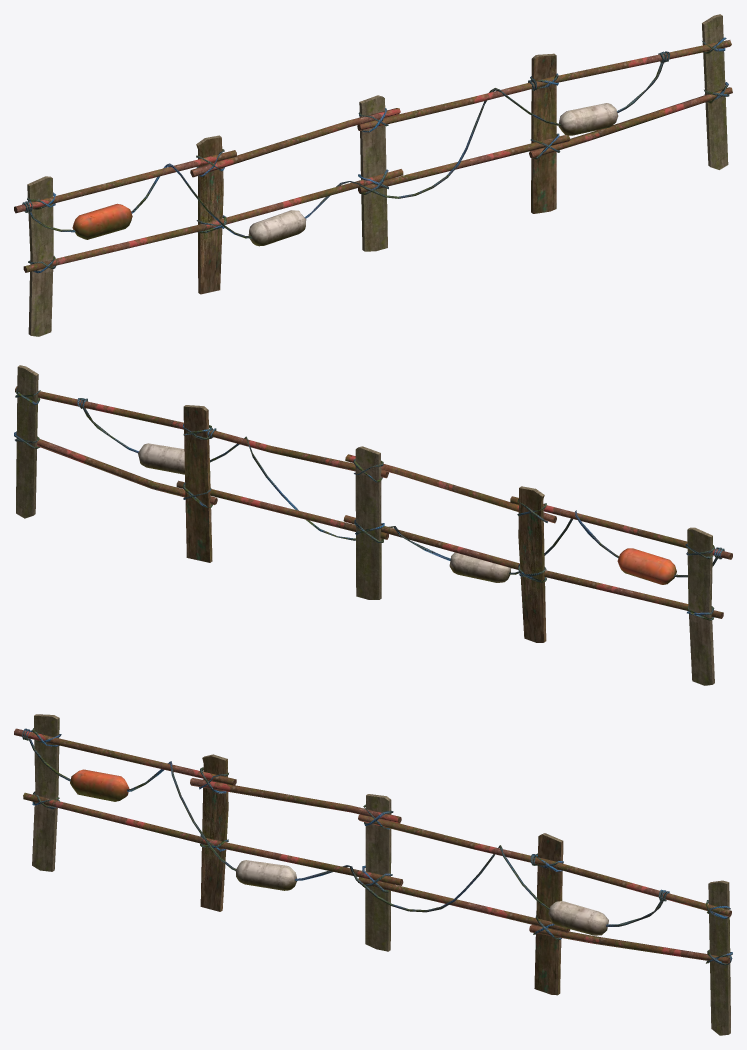
File: floating_walkway_railing_600_a.glb
3 views of the same model, one above another, from view 1: azimuth 30°, elevation 25°; view 2: azimuth 150°, elevation 25°; view 3: azimuth 330°, elevation 25° (orthographic).
Visible parts, largest first — view 1: floating_walkway_railing_600_a_LOD0; view 2: floating_walkway_railing_600_a_LOD0; view 3: floating_walkway_railing_600_a_LOD0.
Part boxes in pixels (<box>): floating_walkway_railing_600_a_LOD0: <box>14,14,732,336</box>; floating_walkway_railing_600_a_LOD0: <box>14,365,732,685</box>; floating_walkway_railing_600_a_LOD0: <box>14,714,732,1035</box>.
Size of the model in its own units: 6.27 by 1.32 by 0.2813.
2 materials, 2 textured.
